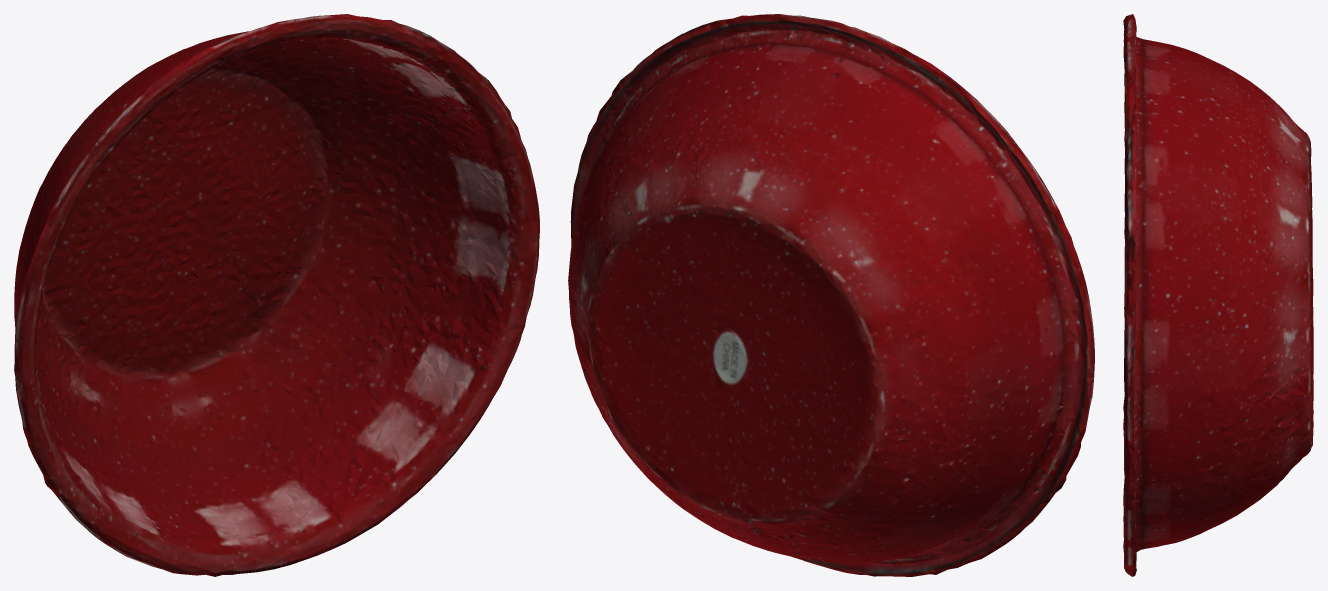
The model's file is bowl.glb.
3 views of the same model, side by side, from view 1: azimuth 30°, elevation 25°; view 2: azimuth 150°, elevation 25°; view 3: azimuth 270°, elevation 25° (orthographic). The views are drawn at different scales.
Parts seen in each view (by area): view 1: textured.obj; view 2: textured.obj; view 3: textured.obj.
Boxes of the visible parts, x1=… form: textured.obj: x1=14, y1=14, x2=539, y2=576; textured.obj: x1=568, y1=14, x2=1094, y2=576; textured.obj: x1=1123, y1=14, x2=1313, y2=576.
Size of the model in its own units: 0.161 by 0.1604 by 0.0547.
1 material, 1 textured.
